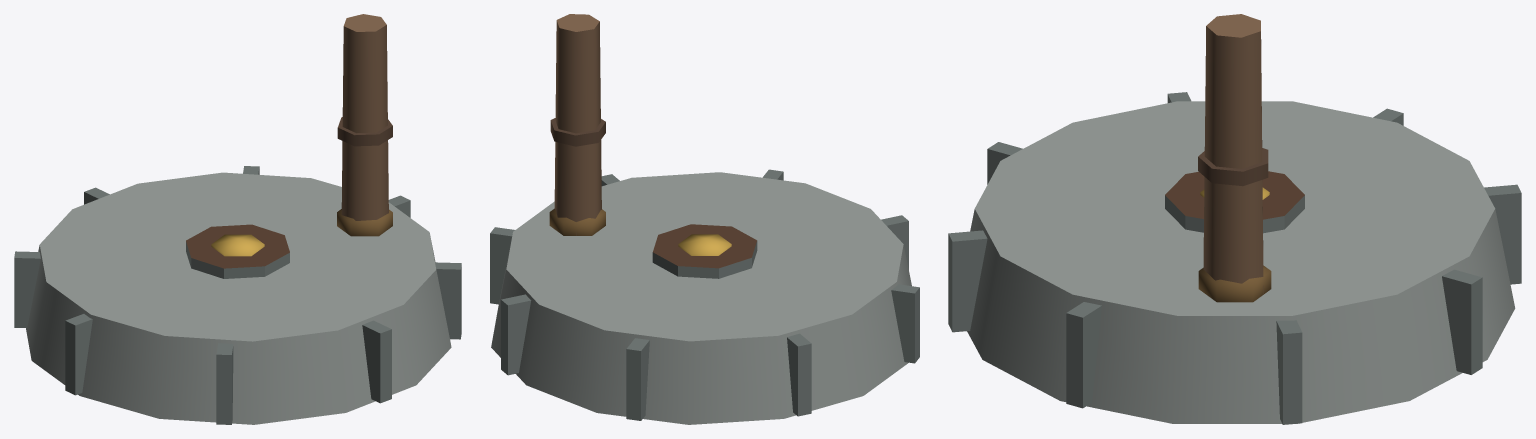
File: quern_stone.glb
3 renders of one model, left to right at view 1: azimuth 30°, elevation 25°; view 2: azimuth 150°, elevation 25°; view 3: azimuth 270°, elevation 25°, orthographic. The views are drawn at different scales.
Parts seen in each view (by area): view 1: body, body_nl; view 2: body, body_nl; view 3: body, body_nl.
Part boxes in pixels (left/top/right/bottom): body: left=26, top=172, right=451, bottom=424; body_nl: left=14, top=14, right=461, bottom=424; body: left=491, top=172, right=911, bottom=424; body_nl: left=490, top=14, right=919, bottom=420; body: left=967, top=101, right=1515, bottom=423; body_nl: left=948, top=14, right=1521, bottom=424.
Bounding box in the file's own units: 0.5724 × 0.4 × 0.5724.
